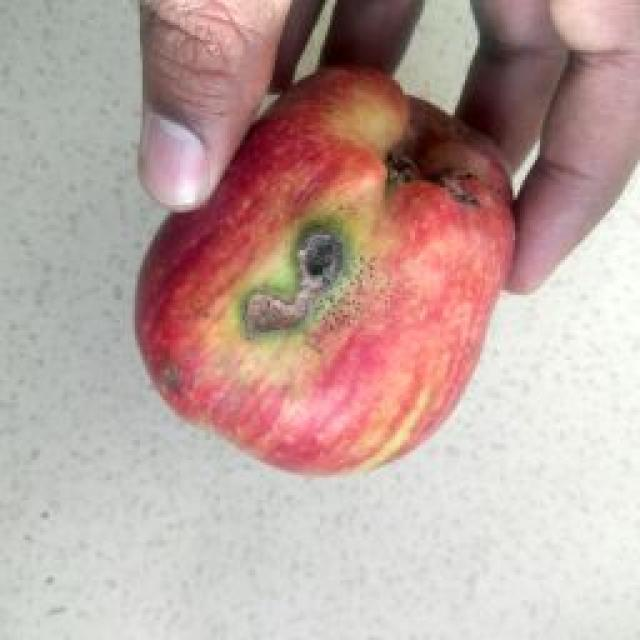Bad_Apple: (138, 68, 514, 472)
